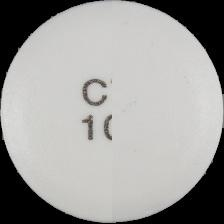61919-075: (0, 0, 224, 224)
